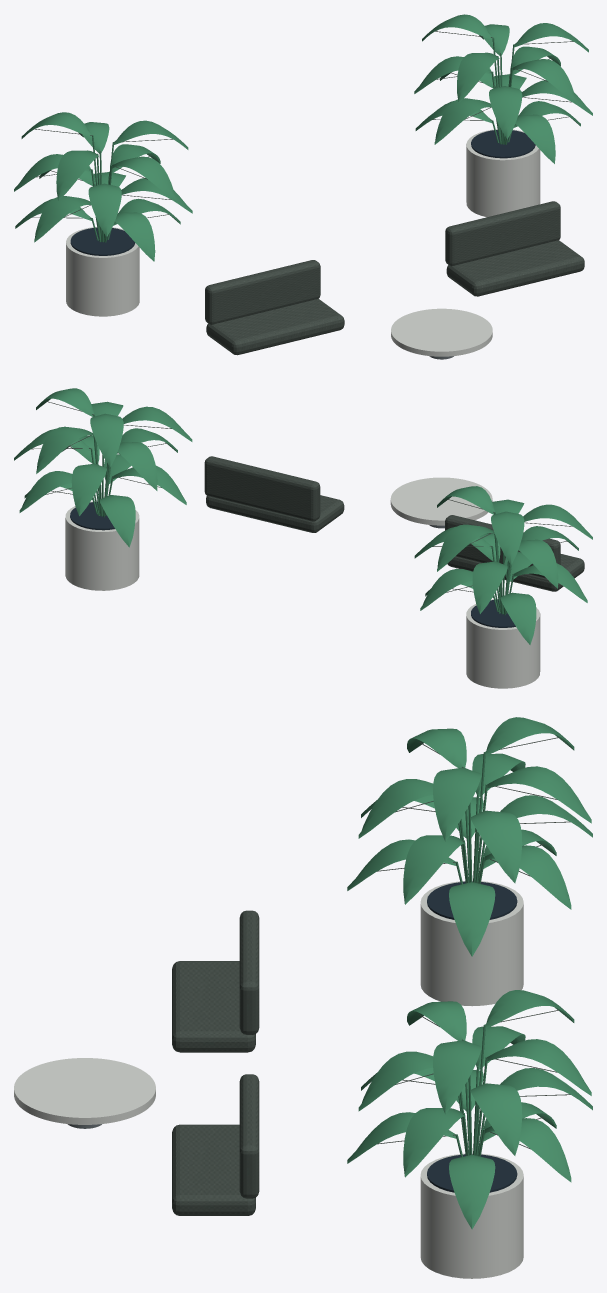
The model's file is contact.glb.
The picture shows the model from 3 angles, top to bottom: view 1: azimuth 30°, elevation 25°; view 2: azimuth 150°, elevation 25°; view 3: azimuth 270°, elevation 25°; orthographic projection. The views are drawn at different scales.
Parts seen in each view (by area): view 1: Static_contact; view 2: Static_contact; view 3: Static_contact.
Part boxes in pixels (box(x1,y1,x2,y2)): Static_contact: box(14, 14, 592, 359); Static_contact: box(14, 388, 592, 688); Static_contact: box(14, 717, 592, 1278).
Bounding box in the file's own units: 13.85 × 4.22 × 8.97.
Materials: 5 (2 with a texture image).
